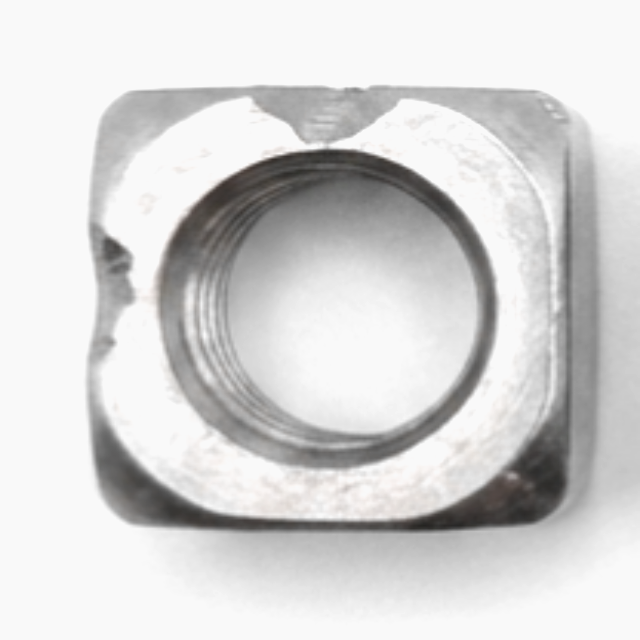defect: (240, 79, 408, 148), (80, 211, 142, 385)
